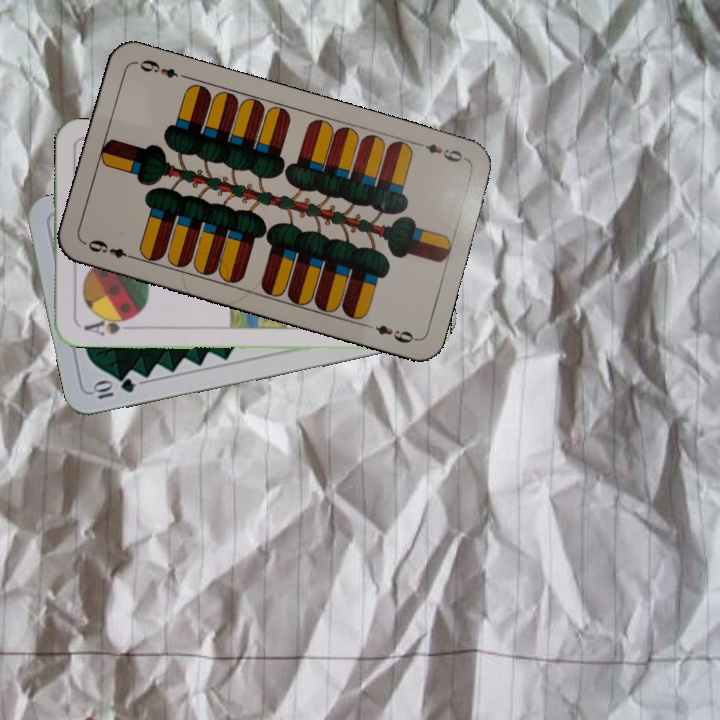E9: (81, 235, 139, 262), (412, 138, 470, 165)
G10: (88, 374, 138, 402)
SA: (80, 312, 134, 338)
